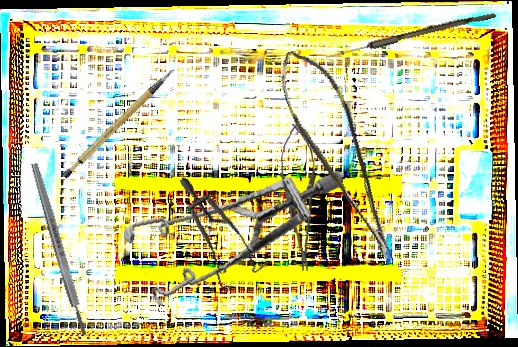Micro Scissor: (268, 39, 401, 274)
Needle Holder: (276, 122, 323, 273)
Scalpel Handle: (49, 66, 192, 182), (29, 161, 90, 338)
Speculum: (113, 139, 345, 331), (141, 175, 283, 304)
Surgical Spoon: (324, 8, 497, 63)
